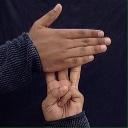hand: (28, 3, 111, 73), (41, 65, 83, 124)
